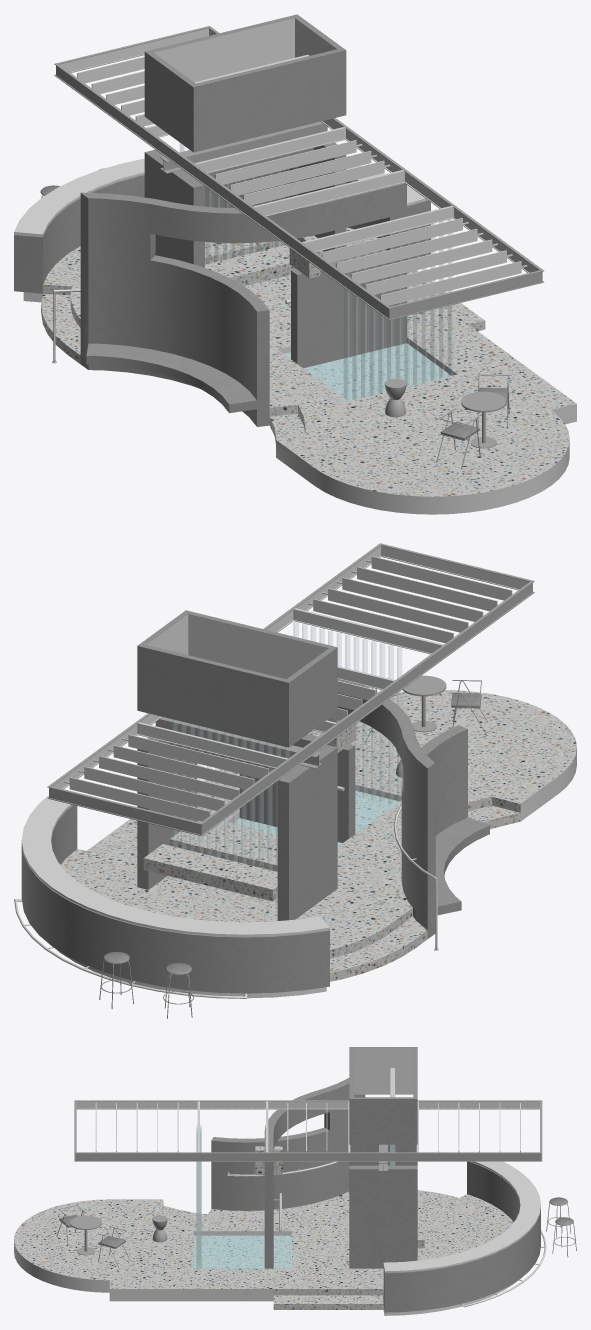
File: booth_mid.glb
3 renders of one model, top to bottom at view 1: azimuth 30°, elevation 25°; view 2: azimuth 150°, elevation 25°; view 3: azimuth 270°, elevation 25°, orthographic. The views are drawn at different scales.
Visible parts, largest first — view 1: BOOTH_MID, GLASS_WALLS_MID; view 2: BOOTH_MID, GLASS_WALLS_MID; view 3: BOOTH_MID, GLASS_WALLS_MID.
Part boxes in pixels (bbox=[...]): BOOTH_MID: bbox=[14, 14, 576, 514]; GLASS_WALLS_MID: bbox=[180, 143, 452, 400]; BOOTH_MID: bbox=[14, 543, 576, 1018]; GLASS_WALLS_MID: bbox=[172, 621, 401, 905]; BOOTH_MID: bbox=[14, 1047, 576, 1315]; GLASS_WALLS_MID: bbox=[196, 1080, 395, 1268].
Bounding box in the file's own units: 680 × 440 × 1234.
2 materials, 1 textured.
